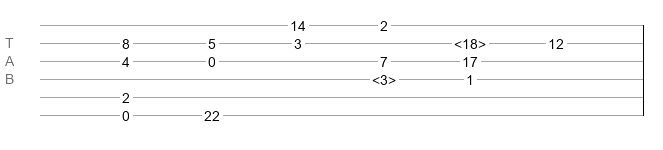0: (122, 108, 130, 118), (208, 54, 216, 64)
1: (466, 72, 474, 82)
12: (548, 36, 564, 46)
14: (290, 18, 306, 28)
17: (462, 54, 478, 64)
2: (122, 90, 130, 100), (380, 18, 388, 28)
22: (204, 108, 220, 118)
3: (294, 36, 302, 46)
4: (122, 54, 130, 64)
5: (208, 36, 216, 46)
7: (380, 54, 388, 64)
8: (122, 36, 130, 46)
harmonic: (454, 36, 486, 46), (372, 72, 396, 82)
